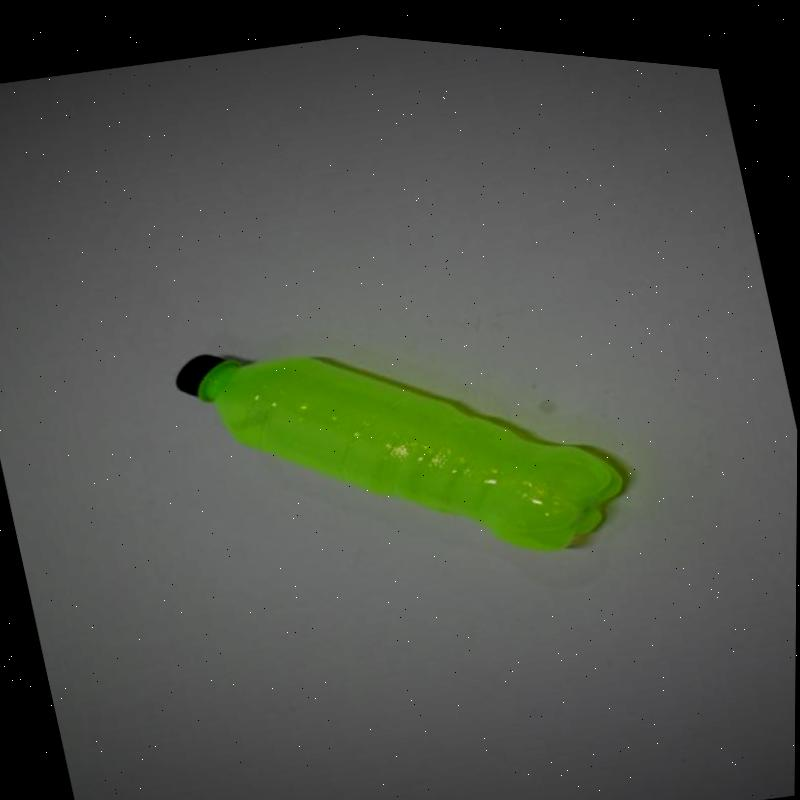botella: (168, 258, 643, 623)
